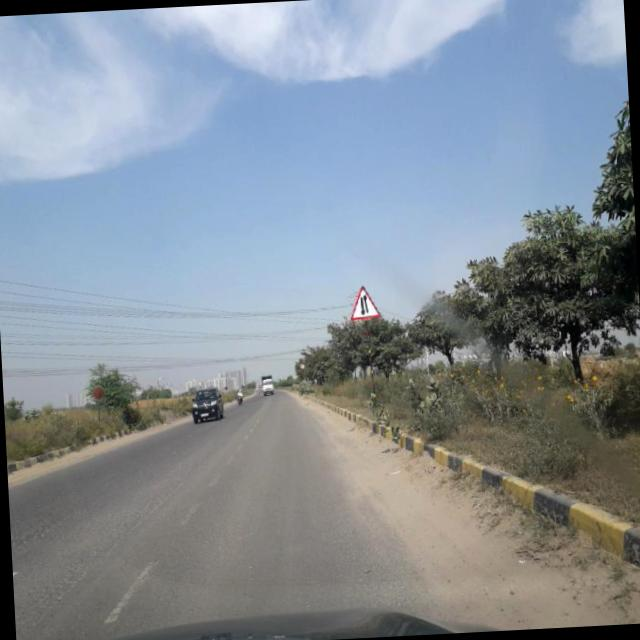crack: (10, 502, 136, 608)
